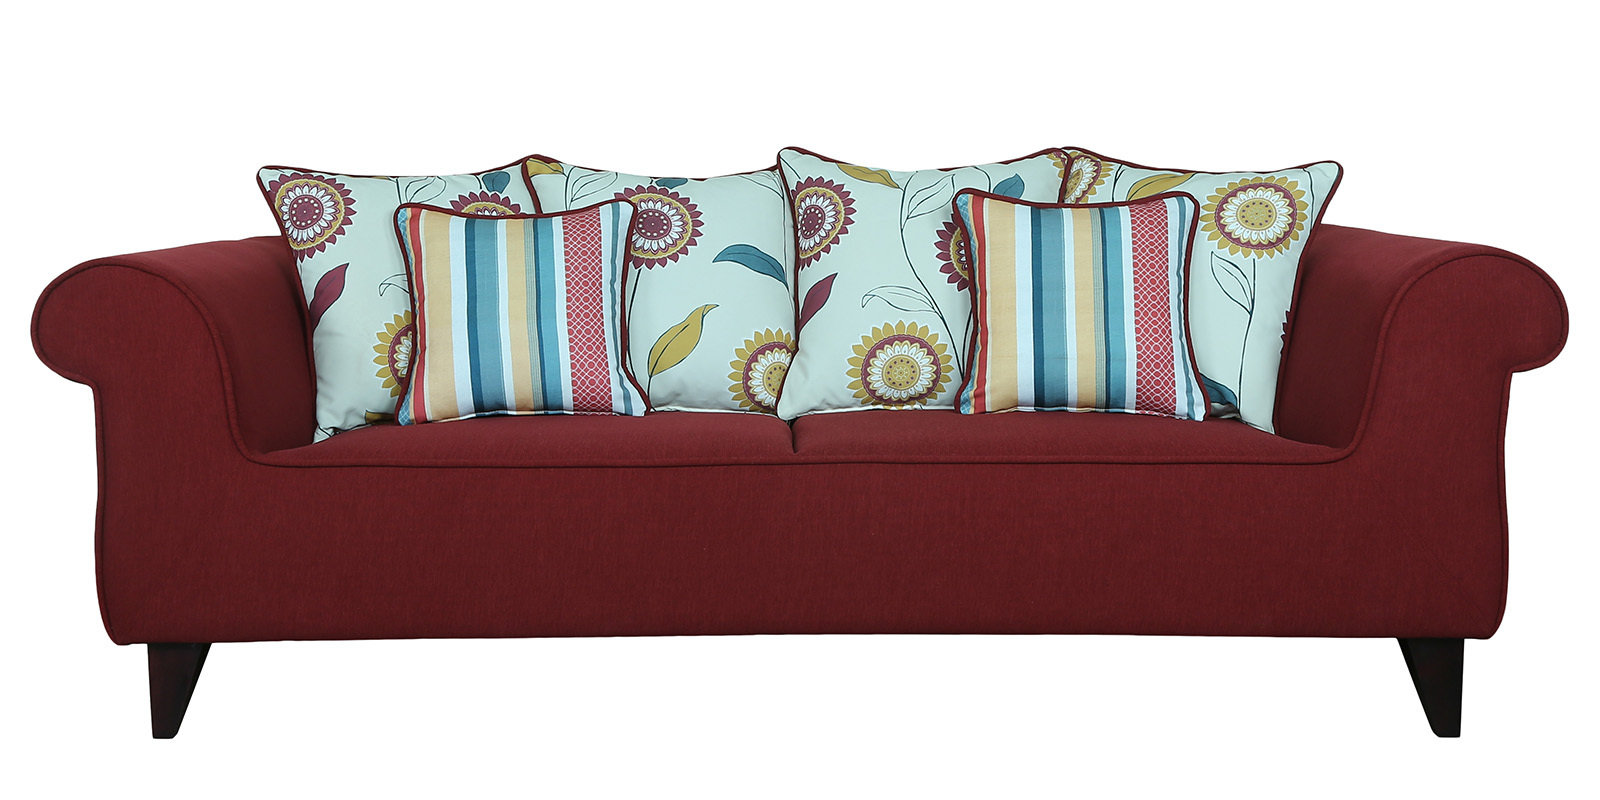Cielo Three Seater Sofa in Garnet Red Colour by CasaCraft: (12, 148, 1600, 719)
